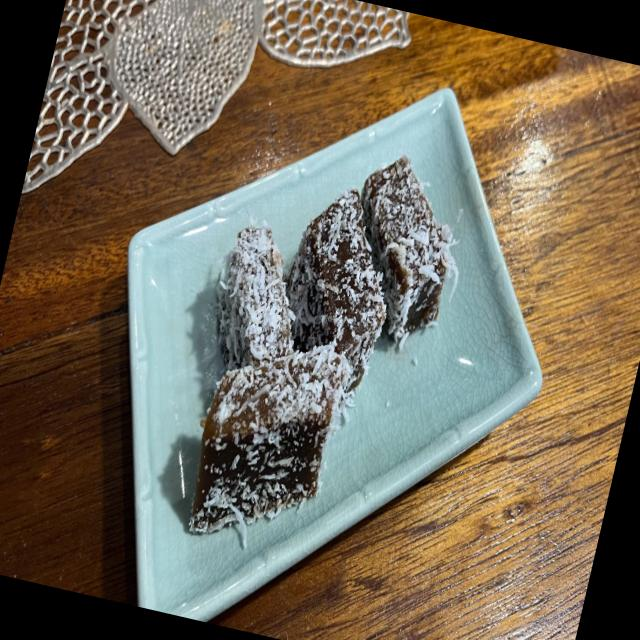kaswi: (189, 344, 349, 546), (283, 188, 385, 393), (360, 154, 462, 347), (217, 223, 293, 370)
